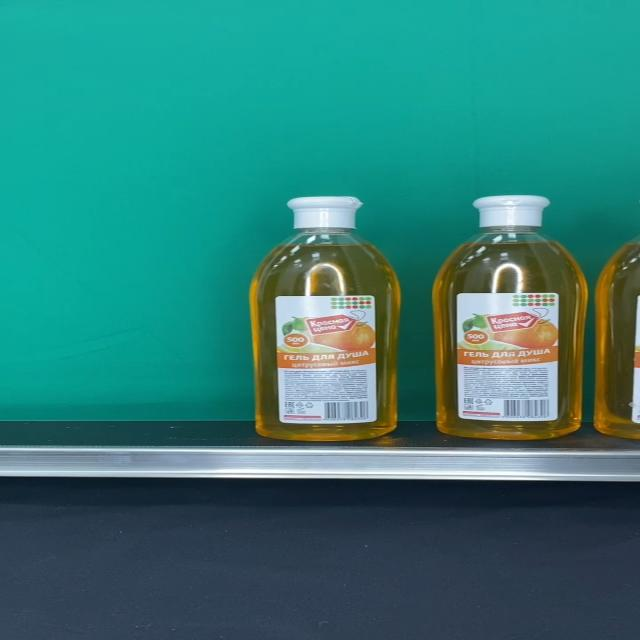Bottle: (432, 194, 588, 440), (252, 196, 401, 440)
Cap: (471, 195, 552, 228), (286, 196, 364, 230)
